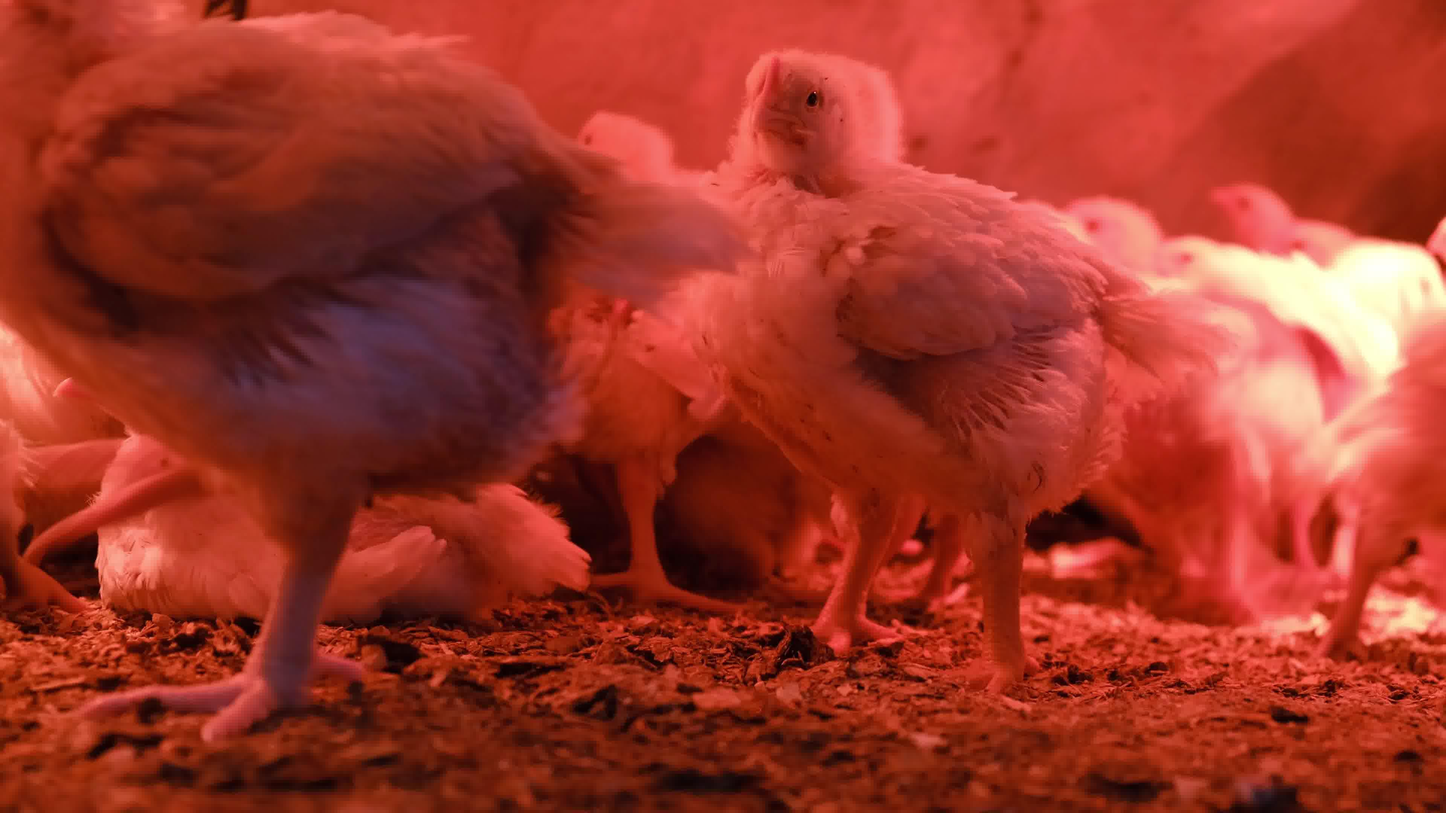AbNormal: (36, 333, 593, 646)
Normal: (6, 0, 638, 728), (693, 23, 1156, 694), (546, 75, 759, 651), (1359, 198, 1446, 659), (1049, 160, 1224, 292), (1190, 154, 1380, 258)
